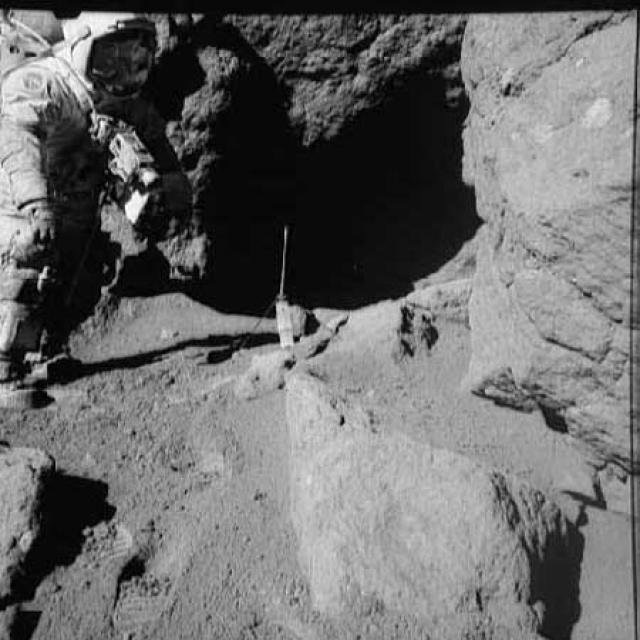artifact: (236, 218, 335, 354)
rock: (0, 449, 65, 638)
